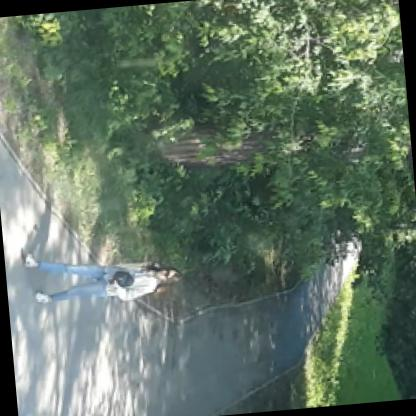Human Body: (16, 233, 186, 316)
